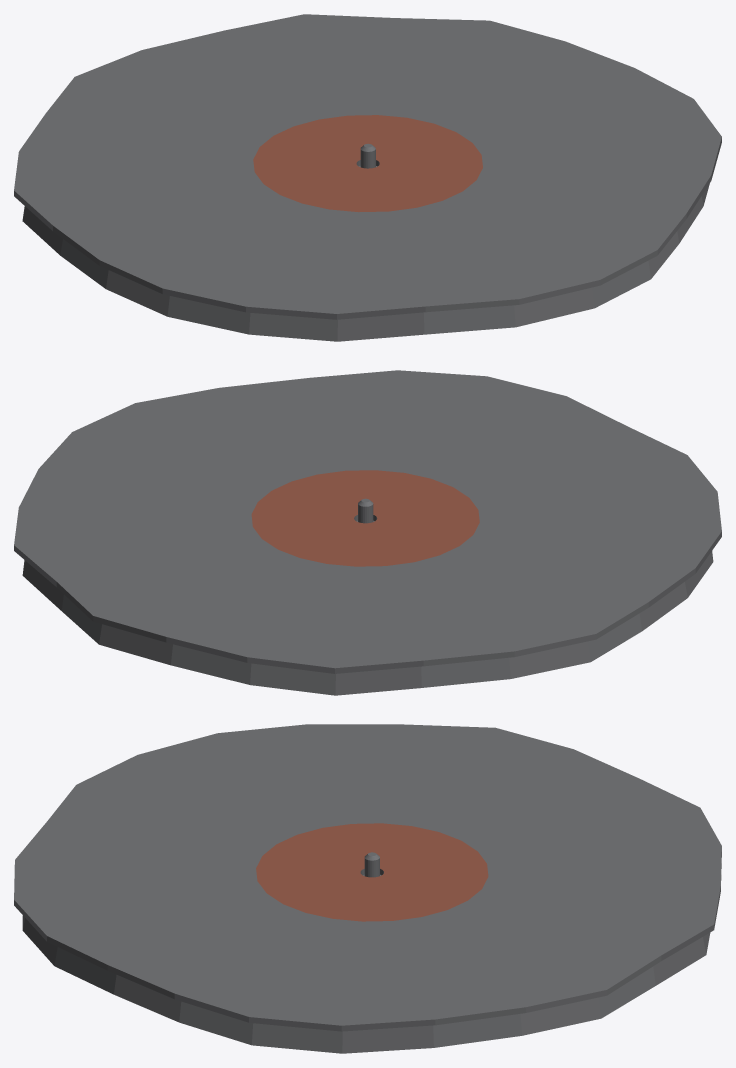
Rendered from music_disk.fbx.
3 views of the same model, one above another, from view 1: azimuth 30°, elevation 25°; view 2: azimuth 150°, elevation 25°; view 3: azimuth 270°, elevation 25° (orthographic).
Parts seen in each view (by area): view 1: music_disk; view 2: music_disk; view 3: music_disk.
Boxes of the visible parts, x1,y1,x2,y2 form: music_disk: [14, 14, 721, 341]; music_disk: [14, 370, 721, 695]; music_disk: [14, 724, 721, 1053].
Size of the model in its own units: 0.2804 by 0.0429 by 0.2783.
